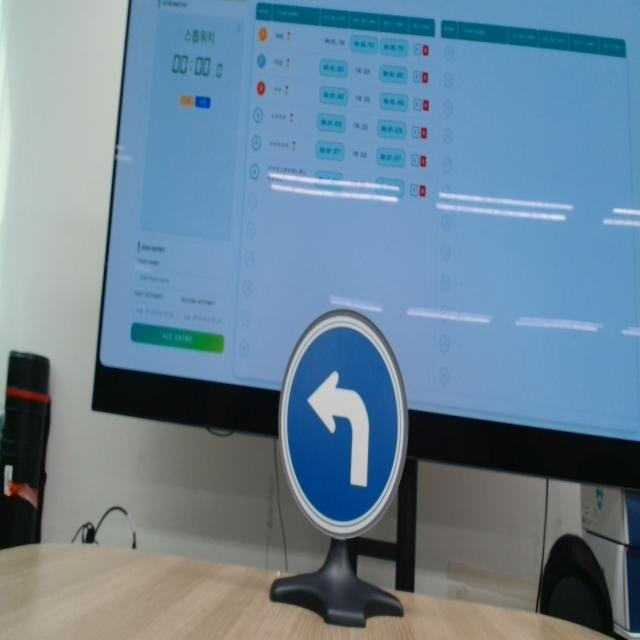left_direction: (274, 299, 411, 544)
